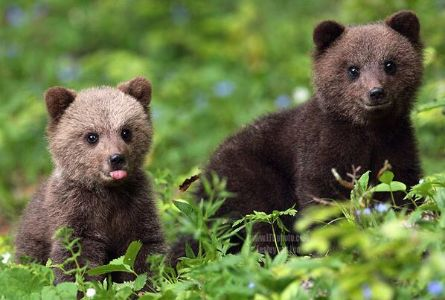bear: (203, 4, 431, 246), (26, 73, 174, 288)
